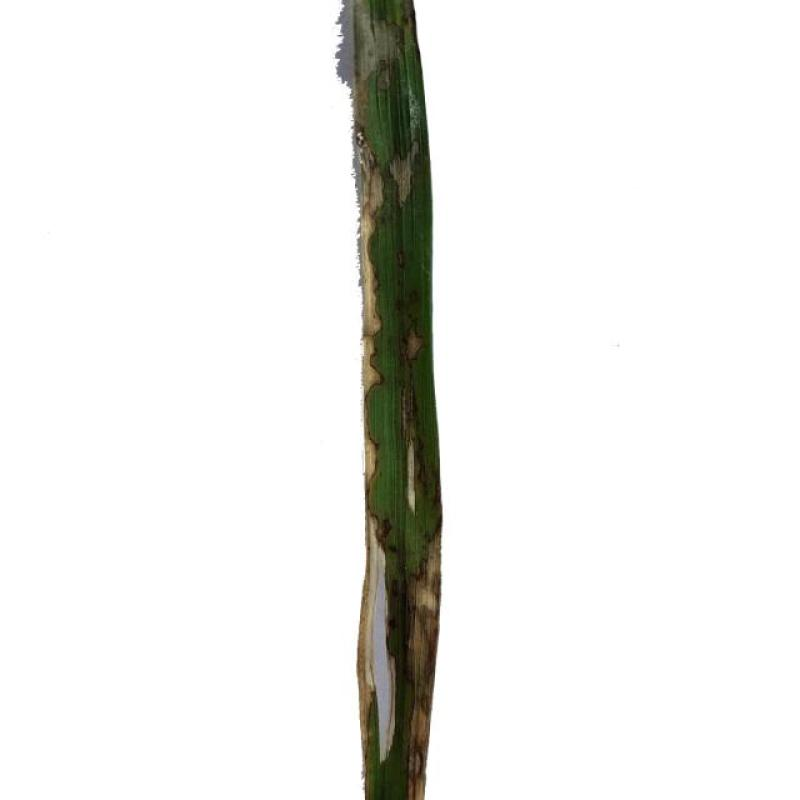Bacterial_Leaf_Blight: (362, 512, 447, 788), (348, 8, 430, 222), (356, 221, 406, 371), (403, 356, 428, 529), (355, 435, 397, 496)
